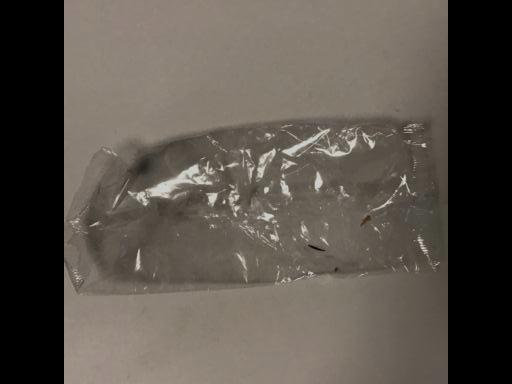trash: (67, 109, 446, 298)
